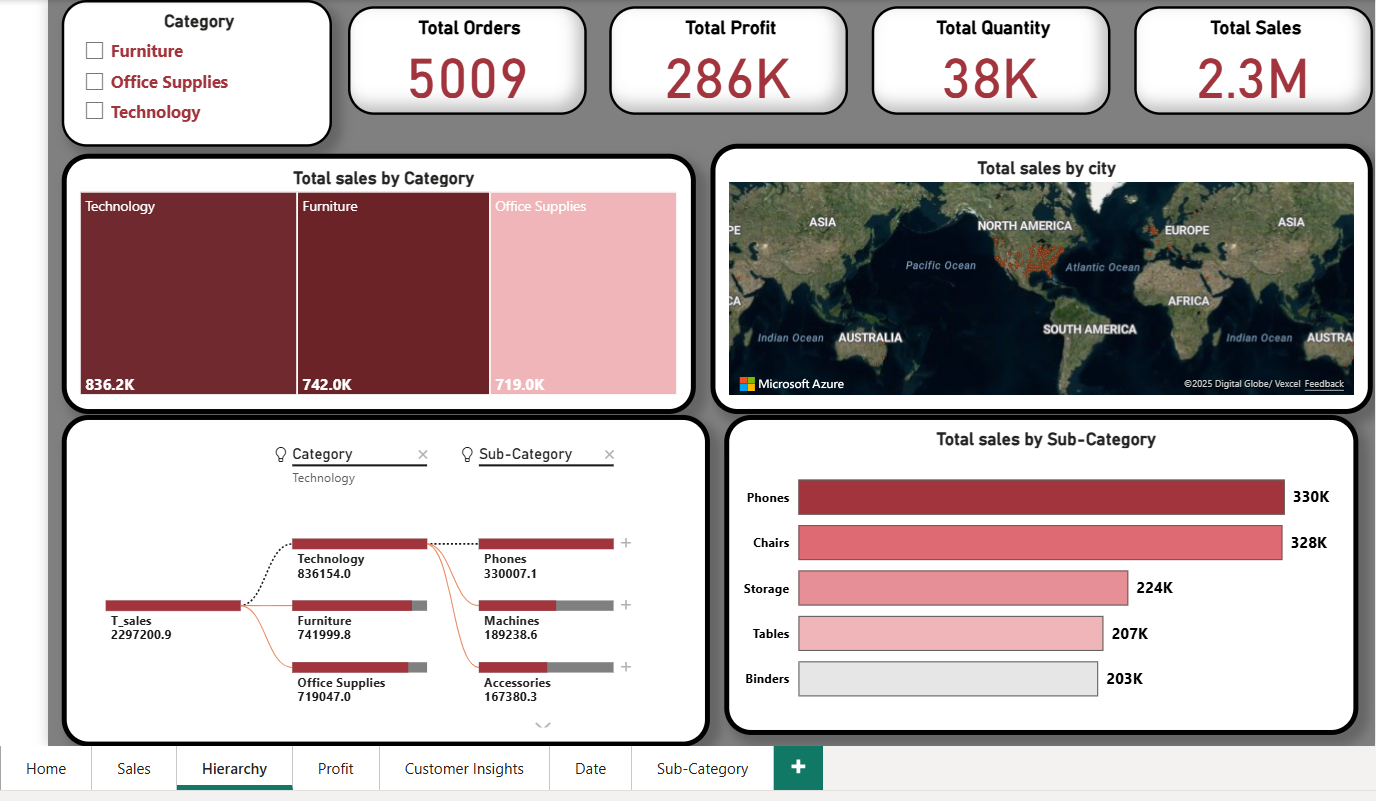

The dashboard page shown, as its layout file describes it:
{"tool":"powerbi","page":{"name":"Hierarchy","canvas":[1280,720],"ordinal":2},"visuals":[{"type":"card","title":"Total Profit","fields":{"Values":["DAXmeasure.T_profit"]},"box":[542.2,6,230,105],"z":0},{"type":"card","title":"Total Quantity","fields":{"Values":["DAXmeasure.T_quantity"]},"box":[795,6,230,105],"z":1000},{"type":"card","title":"Total Sales","fields":{"Values":["DAXmeasure.T_sales"]},"box":[1047.9,6.6,230,105],"z":2000},{"type":"card","title":"Total Orders","fields":{"Values":["DAXmeasure.T_order"]},"box":[289.4,6,230,105],"z":3000},{"type":"slicer","title":"Category","fields":{"Values":["ProductDim.Category"]},"box":[13.7,0,260.7,141.3],"z":4000},{"type":"treemap","title":"Total sales by Category","fields":{"Group":["ProductDim.Category Hierarchy.Category","ProductDim.Category Hierarchy.Sub-Category","ProductDim.Category Hierarchy.Product Name"],"Values":["DAXmeasure.T_sales"]},"box":[13.7,148.2,612,251.1],"z":5000},{"type":"azureMap","title":"Total sales by city","fields":{"Category":["CustomerDim.City"],"Size":["DAXmeasure.T_sales"]},"box":[639.5,138.6,639.5,260.7],"z":6000},{"type":"decompositionTreeVisual","title":"Total sales by Category","fields":{"Analyze":["DAXmeasure.T_sales"],"ExplainBy":["ProductDim.Category Hierarchy.Category","ProductDim.Category Hierarchy.Sub-Category","ProductDim.Category Hierarchy.Product Name"]},"box":[13.7,400.7,625.7,319.7],"z":7000},{"type":"barChart","title":"Total sales by Sub-Category","fields":{"Category":["ProductDim.Sub-Category"],"Y":["DAXmeasure.T_sales"]},"box":[653.2,400.7,612,308.7],"z":8000}]}

Visuals, with their boxes in screenshot pixels (x1, y1, x2, y2):
"Total Profit" card: 605, 6, 840, 114
"Total Quantity" card: 863, 6, 1098, 114
"Total Sales" card: 1122, 7, 1357, 114
"Total Orders" card: 346, 6, 581, 114
"Category" slicer: 64, 0, 331, 144
"Total sales by Category" treemap: 64, 152, 690, 408
"Total sales by city" azureMap: 704, 142, 1358, 408
"Total sales by Category" decompositionTreeVisual: 64, 410, 704, 737
"Total sales by Sub-Category" barChart: 718, 410, 1344, 725
